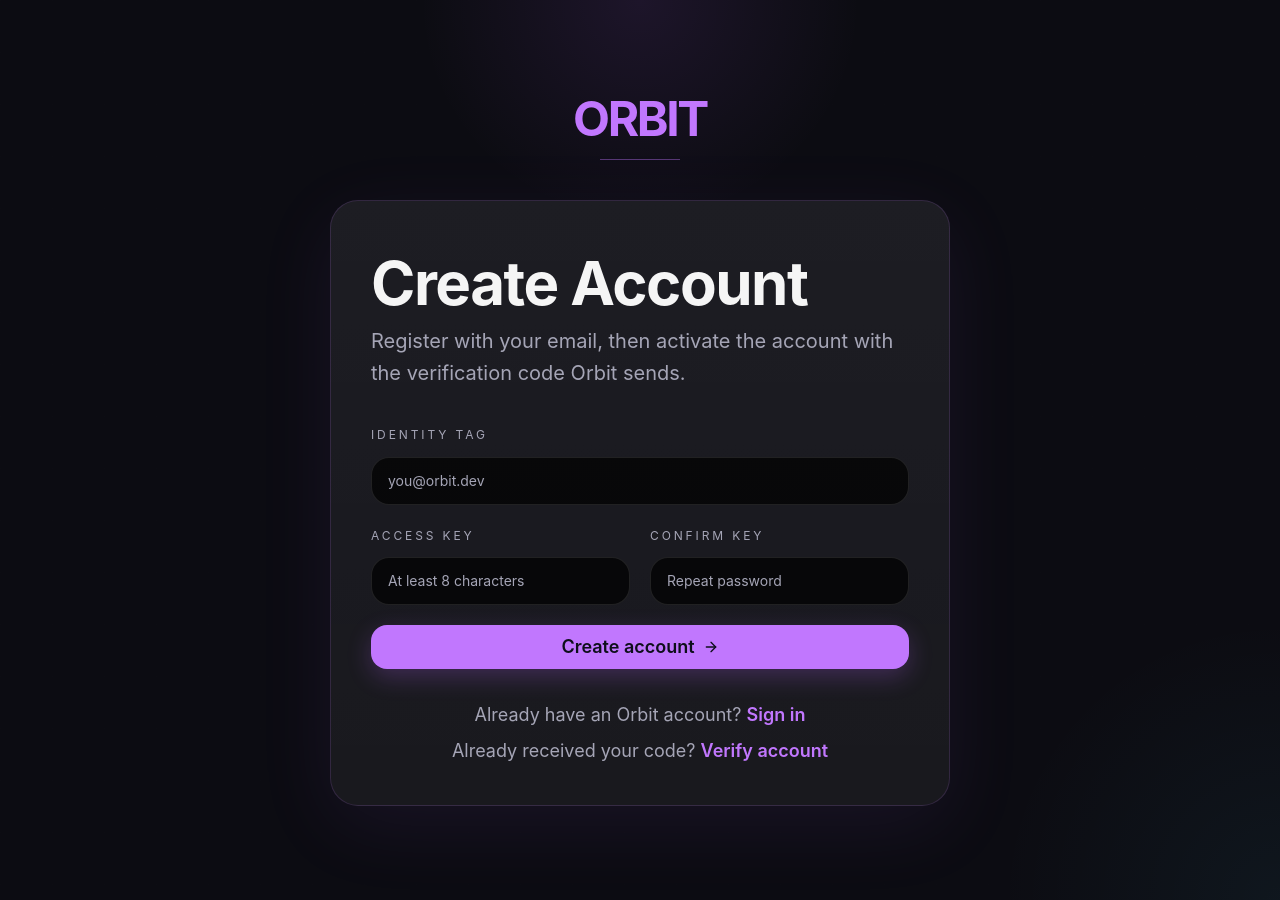
Test: RegisterPage › validates the email field before submit
Type "invalid-email" into the field named "email" at (640, 480), box x1=371 y1=456 x2=909 y2=504
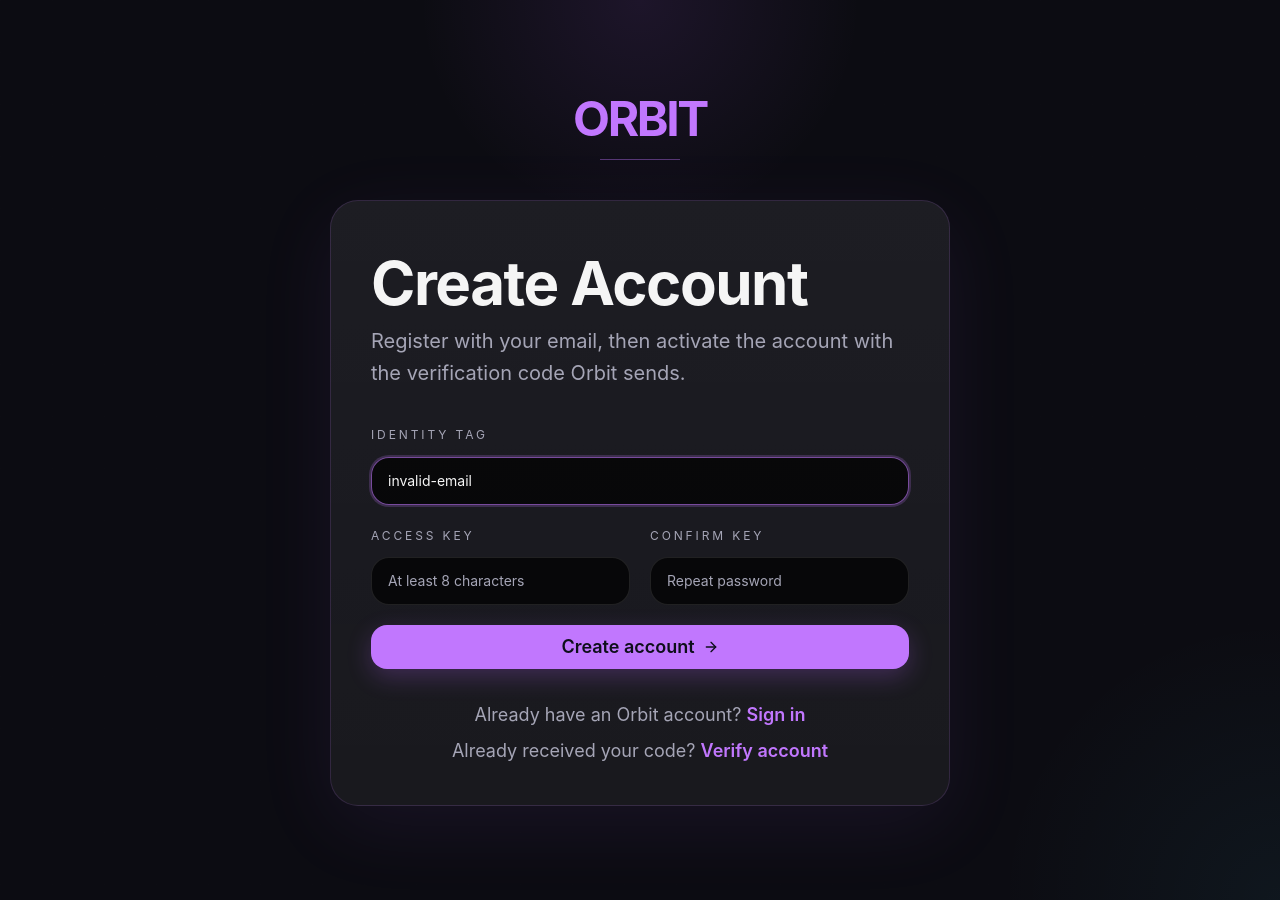
Type "secret123" into the password field named "password" at (500, 580), box x1=371 y1=556 x2=630 y2=604
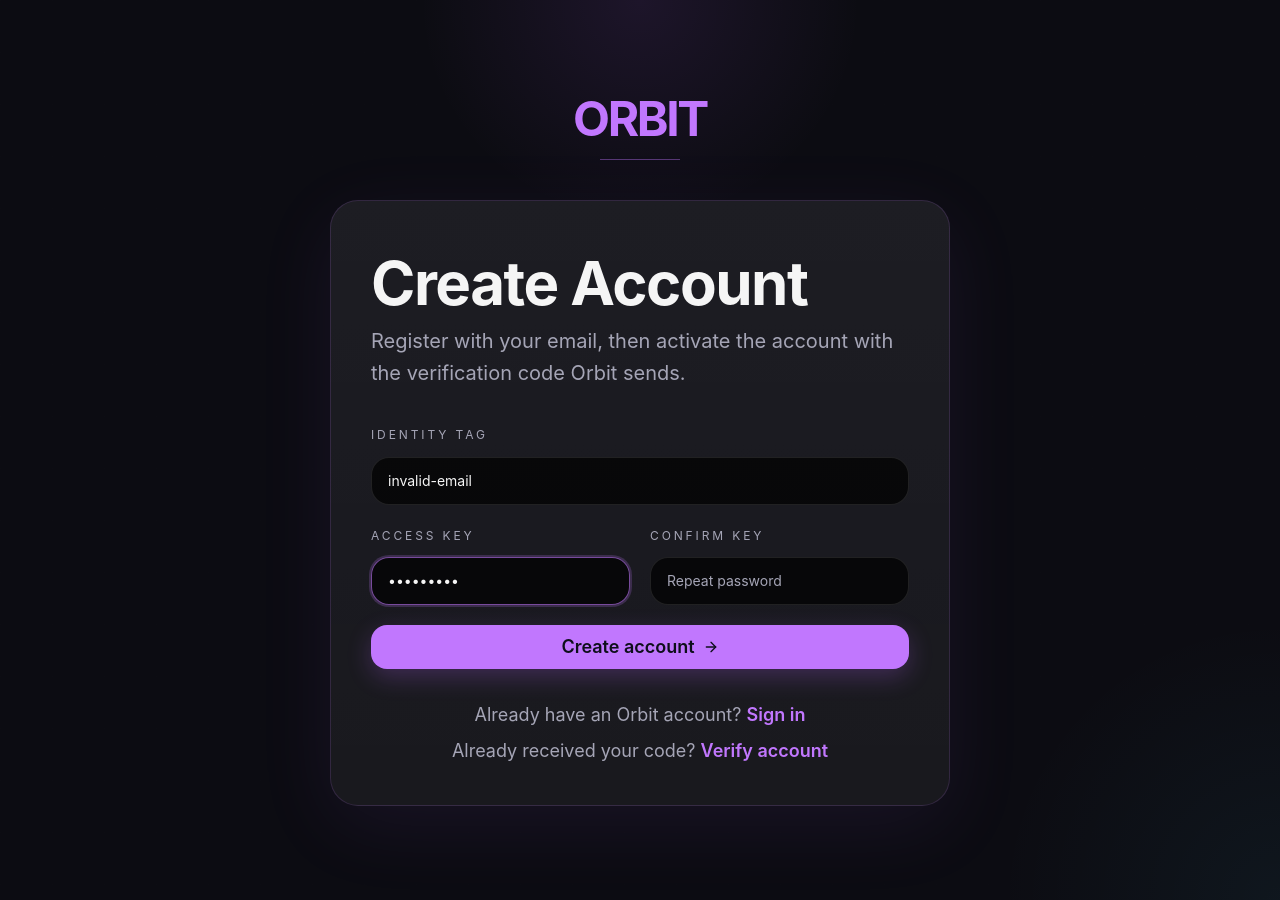
Type "secret123" into the password field named "confirm password" at (780, 580), box x1=650 y1=556 x2=909 y2=604
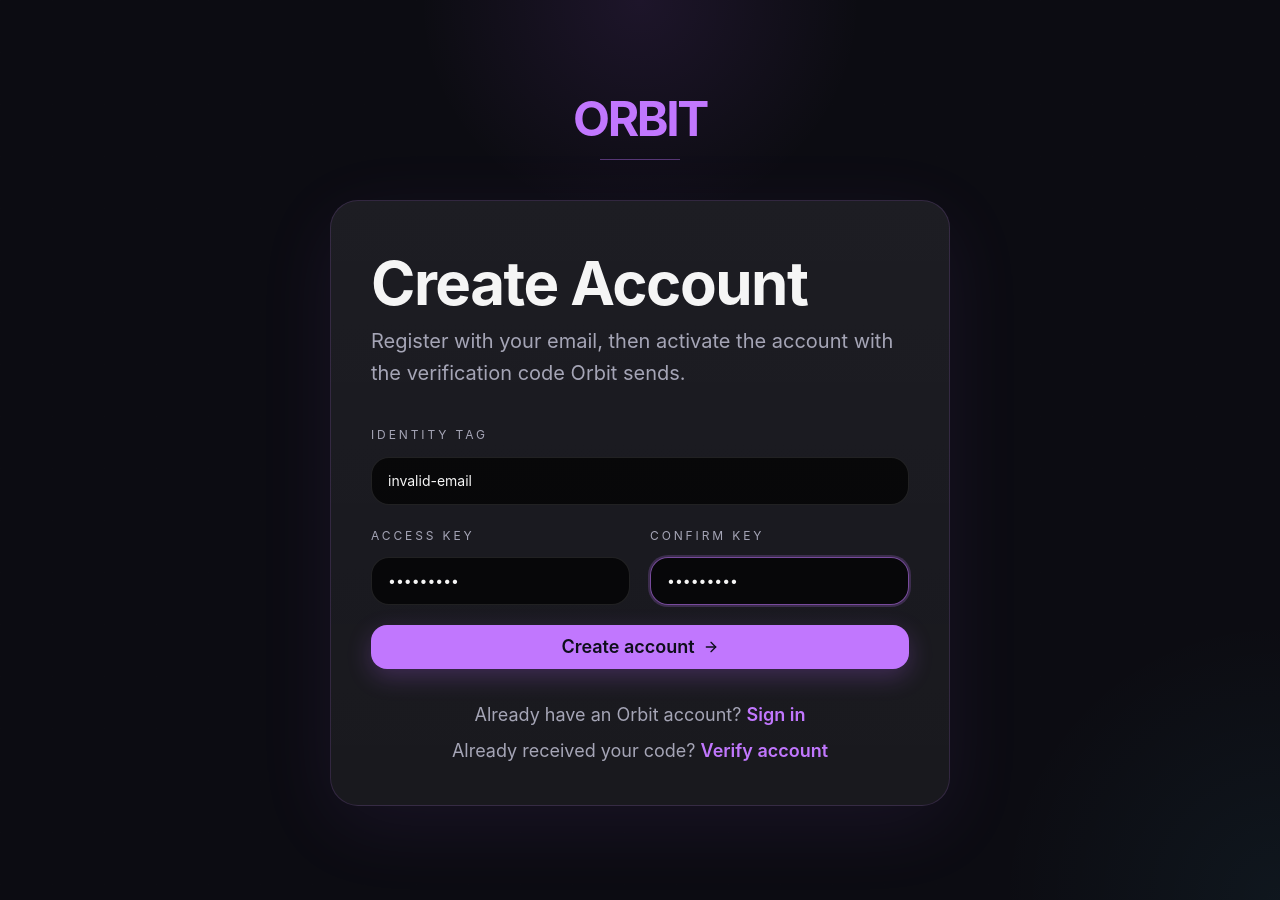
Click the button "Create account" at (640, 646), box x1=371 y1=624 x2=909 y2=668
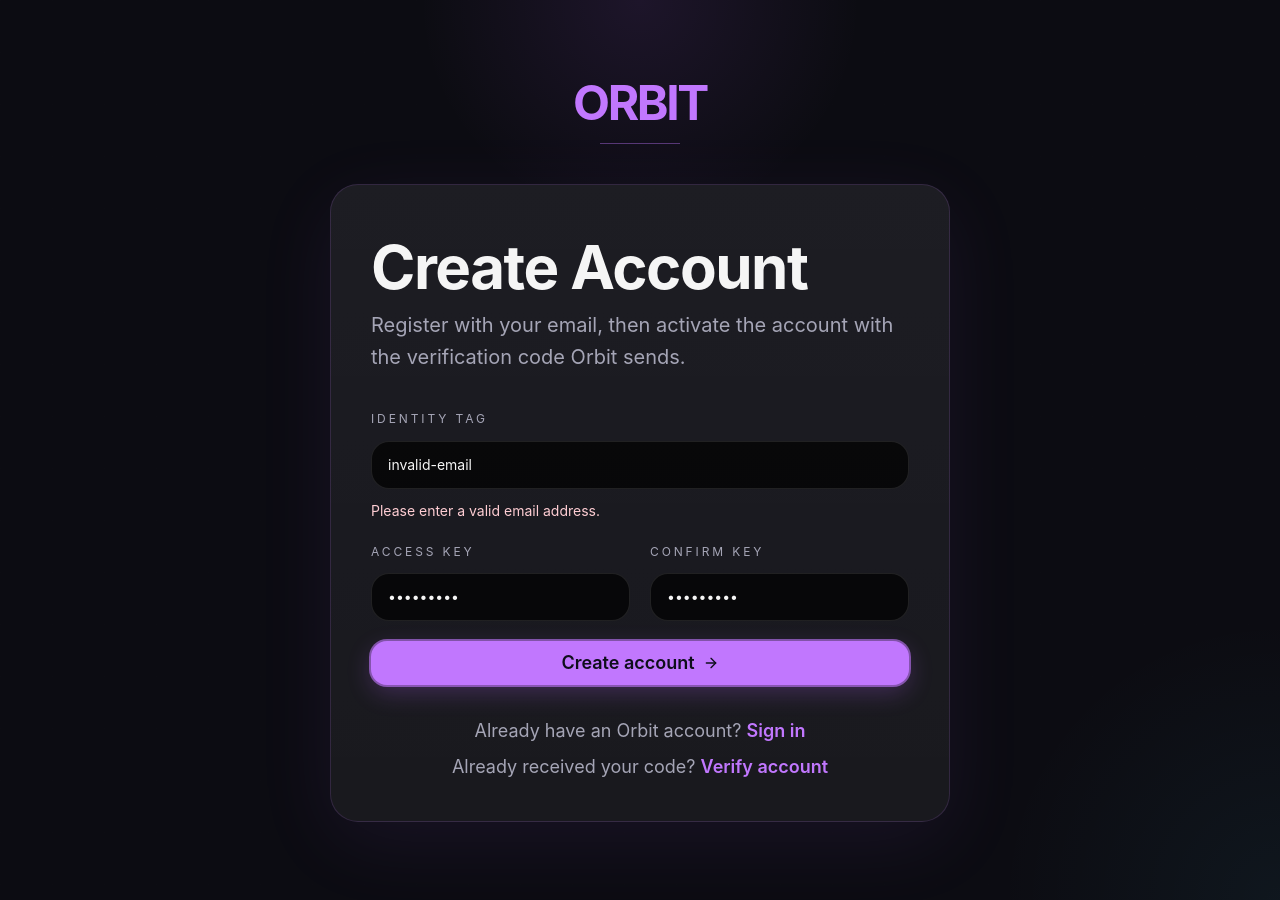
Result: the text "Please enter a valid email address." is shown at x1=371 y1=502 x2=600 y2=518
